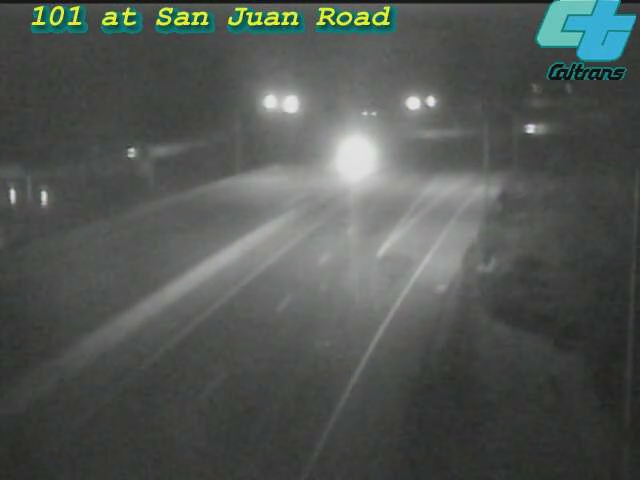vehicle: (326, 133, 376, 183), (512, 105, 562, 155)
